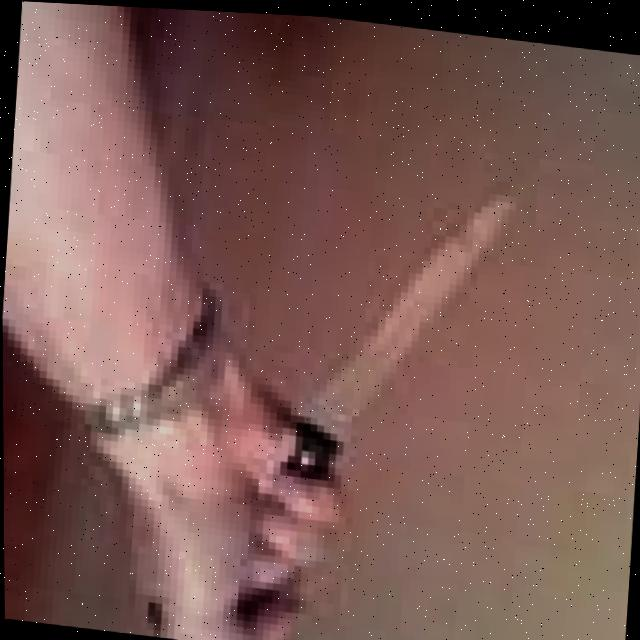knife: (289, 160, 525, 503)
